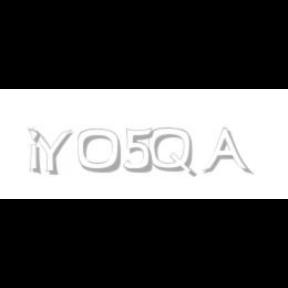5: (122, 128, 154, 174)
A: (202, 128, 250, 176)
O: (78, 128, 122, 174)
Q: (149, 128, 195, 178)
Y: (27, 128, 73, 176)
i: (29, 128, 45, 176)
